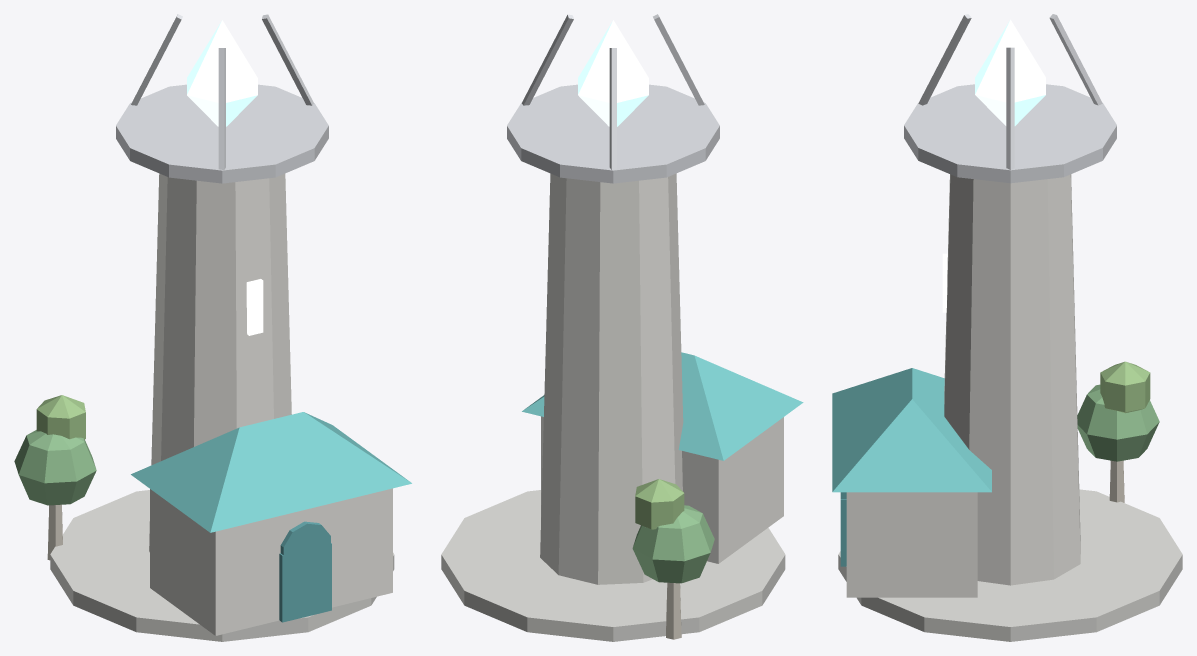
The picture shows the model from 3 angles, left to right: view 1: azimuth 30°, elevation 25°; view 2: azimuth 150°, elevation 25°; view 3: azimuth 270°, elevation 25°; orthographic projection.
Visible parts, largest first — view 1: body; view 2: body; view 3: body.
Part boxes in pixels (x1,y1,x2,y2): body: (14,14,411,641); body: (441,14,803,641); body: (832,14,1182,641).
Size of the model in its own units: 8.44 by 14.8 by 8.55.
